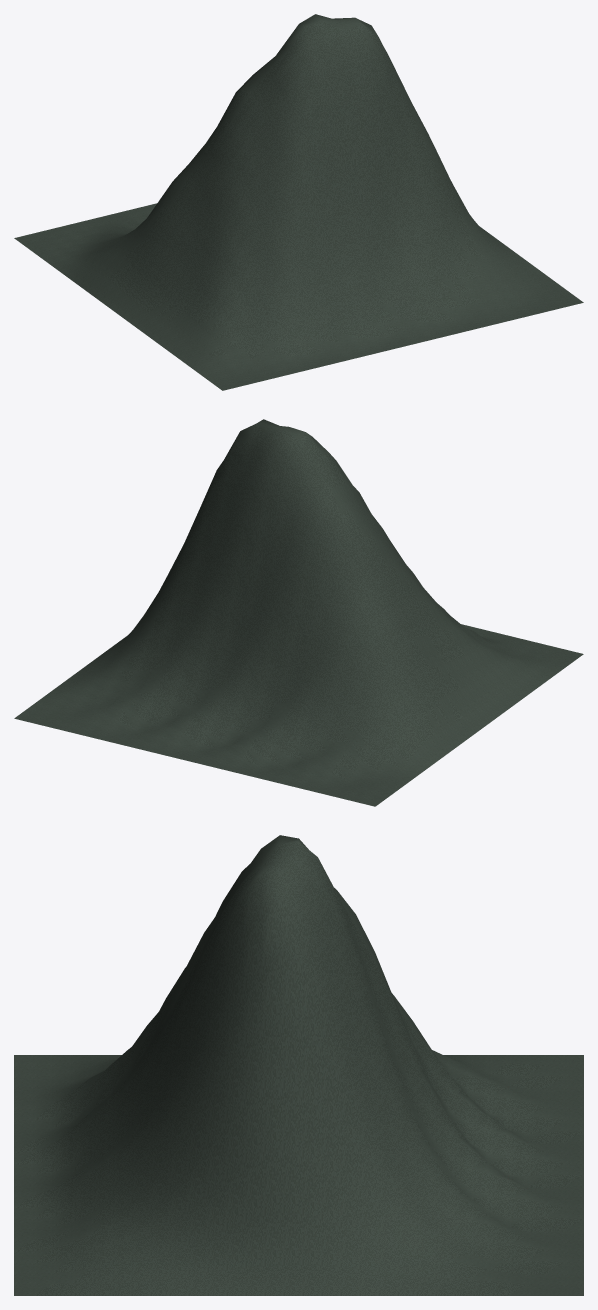
File: ridge_b.glb
3 views of the same model, one above another, from view 1: azimuth 30°, elevation 25°; view 2: azimuth 150°, elevation 25°; view 3: azimuth 270°, elevation 25° (orthographic). The views are drawn at different scales.
Parts seen in each view (by area): view 1: ridge_b; view 2: ridge_b; view 3: ridge_b.
Part boxes in pixels (x1,y1,x2,y2): ridge_b: (14, 14, 583, 390); ridge_b: (14, 419, 583, 806); ridge_b: (14, 835, 583, 1295).
Size of the model in its own units: 2 by 1.35 by 2.
1 material, 1 textured.
